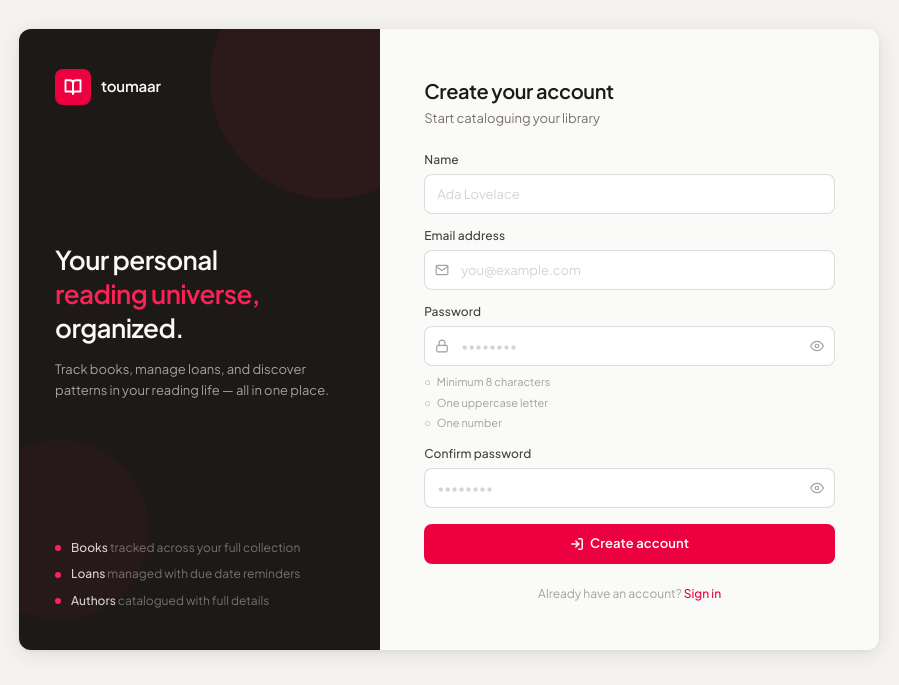
SignupPage › shows an error when submitted with fields empty
What coordinates should you click on to do the following:
click the button "Create account"
I would click on:
 (630, 544)
Its box is top-left (424, 524), bottom-right (835, 564).
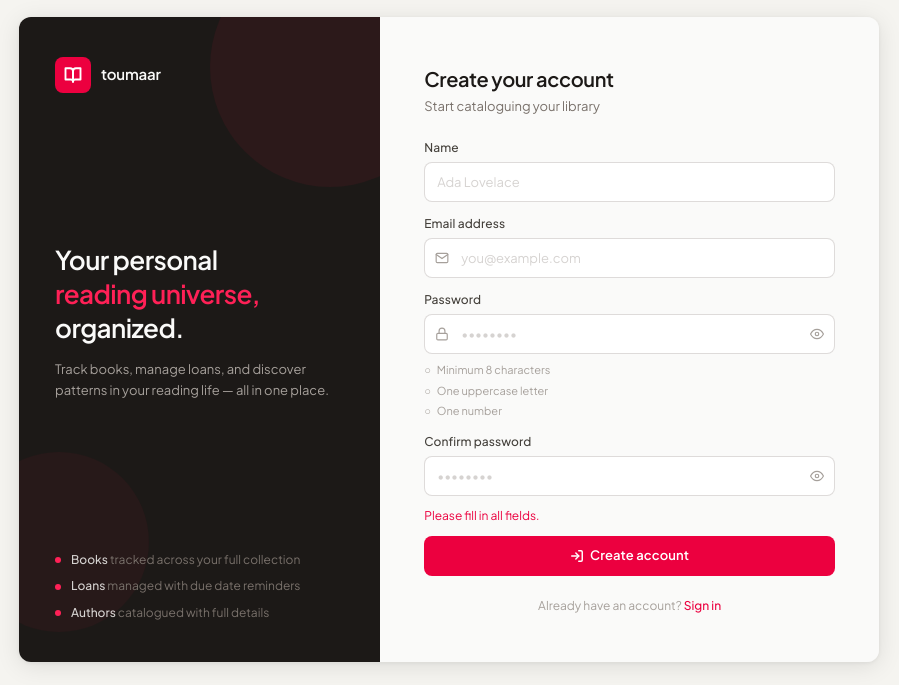
Expected: the text "Please fill in all fields." is shown, top-left (424, 508), bottom-right (540, 522)
